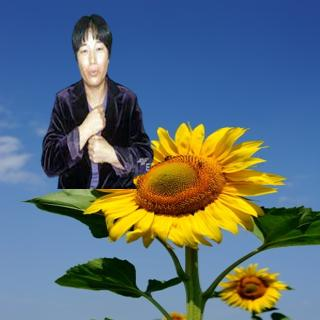CAREFUL: (77, 101, 116, 166)
